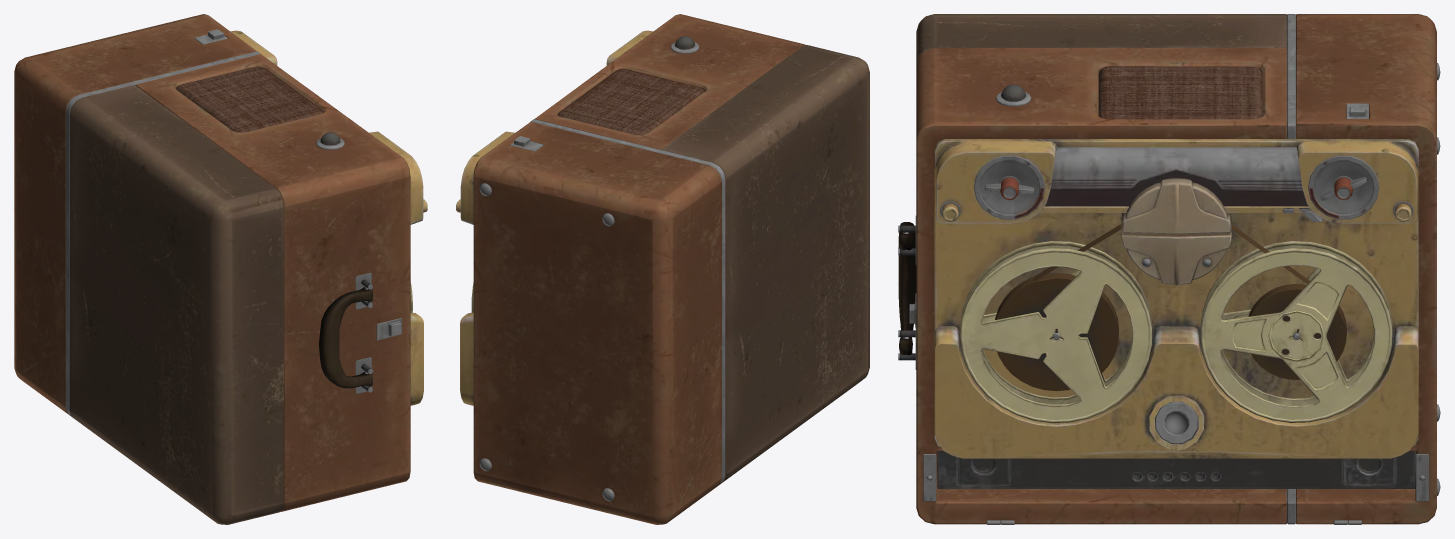
Rendered from vintage_tape_recorder.glb.
3 renders of one model, left to right at view 1: azimuth 30°, elevation 25°; view 2: azimuth 150°, elevation 25°; view 3: azimuth 270°, elevation 25°, orthographic. The views are drawn at different scales.
Visible parts, largest first — view 1: Tape_Recorder_Tape_Recorder_0; view 2: Tape_Recorder_Tape_Recorder_0; view 3: Tape_Recorder_Tape_Recorder_0.
Part boxes in pixels (x1,y1,x2,y2): Tape_Recorder_Tape_Recorder_0: [14, 14, 427, 524]; Tape_Recorder_Tape_Recorder_0: [456, 14, 869, 524]; Tape_Recorder_Tape_Recorder_0: [898, 14, 1440, 524].
Size of the model in its own units: 0.2183 by 0.3122 by 0.3704.
1 material, 1 textured.
